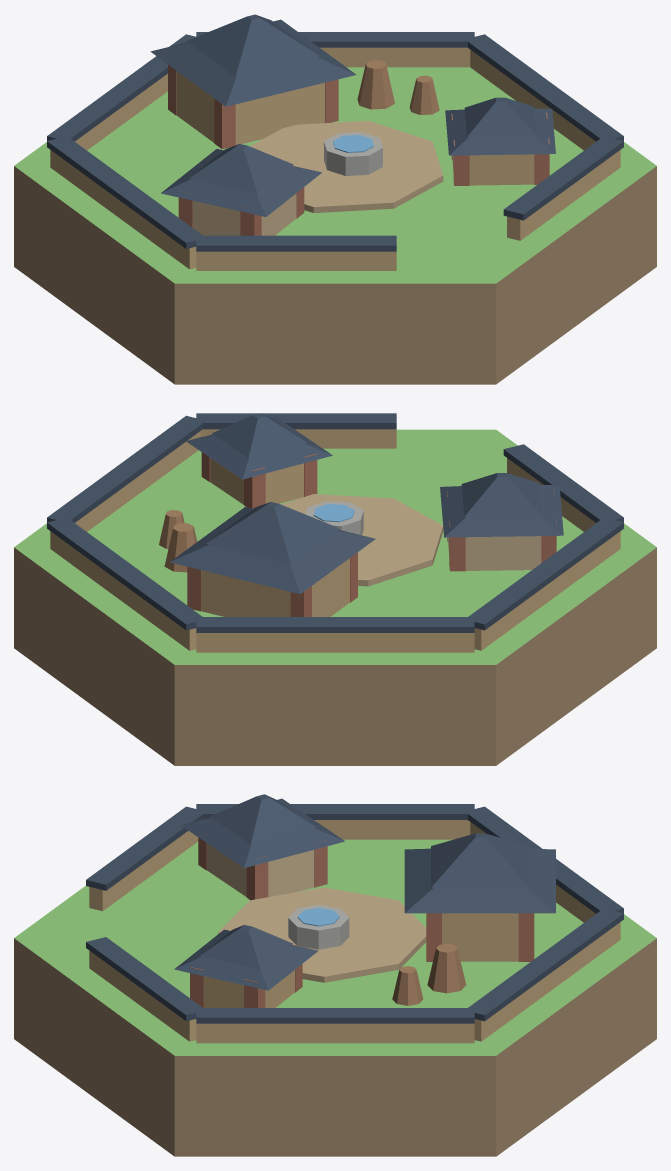
The model's file is village-1.glb.
3 renders of one model, top to bottom at view 1: azimuth 30°, elevation 25°; view 2: azimuth 150°, elevation 25°; view 3: azimuth 270°, elevation 25°, orthographic.
Visible parts, largest first — view 1: base, yard, house_a_eave, house_a_body, house_a_roof, fence_3_wall, fence_2_cap, house_b_eave, fence_5_cap, fence_3_cap, house_c_eave, house_b_roof (+17 smaller); view 2: base, yard, house_a_eave, fence_1_wall, house_a_body, house_a_roof, fence_1_cap, house_b_eave, fence_0_cap, fence_2_cap, fence_5_cap, house_b_roof (+19 smaller); view 3: base, yard, house_a_eave, fence_5_wall, house_a_roof, fence_5_cap, fence_0_cap, house_b_eave, house_a_body, fence_2_cap, house_c_eave, house_b_roof (+19 smaller).
Part boxes in pixels (bbox=[...]): base: bbox=[14, 67, 656, 384]; yard: bbox=[250, 120, 443, 212]; house_a_eave: bbox=[150, 19, 356, 106]; house_a_body: bbox=[176, 71, 324, 144]; house_a_roof: bbox=[186, 14, 319, 76]; fence_3_wall: bbox=[196, 251, 396, 270]; fence_2_cap: bbox=[47, 136, 204, 248]; house_b_eave: bbox=[161, 149, 321, 216]; fence_5_cap: bbox=[468, 34, 623, 141]; fence_3_cap: bbox=[196, 235, 396, 251]; house_c_eave: bbox=[445, 108, 555, 155]; house_b_roof: bbox=[189, 144, 293, 193]; base: bbox=[14, 429, 656, 765]; yard: bbox=[281, 494, 443, 586]; house_a_eave: bbox=[170, 507, 375, 594]; fence_1_wall: bbox=[196, 633, 474, 652]; house_a_body: bbox=[201, 558, 349, 616]; house_a_roof: bbox=[206, 502, 339, 564]; fence_1_cap: bbox=[196, 617, 474, 632]; house_b_eave: bbox=[440, 485, 563, 537]; fence_0_cap: bbox=[47, 517, 205, 630]; fence_2_cap: bbox=[466, 517, 623, 630]; fence_5_cap: bbox=[47, 415, 202, 522]; house_b_roof: bbox=[461, 473, 541, 516]; base: bbox=[14, 839, 656, 1156]; yard: bbox=[218, 887, 426, 982]; house_a_eave: bbox=[404, 848, 555, 913]; fence_5_wall: bbox=[196, 1023, 474, 1043]; house_a_roof: bbox=[431, 833, 529, 887]; fence_5_cap: bbox=[196, 1008, 474, 1023]; fence_0_cap: bbox=[465, 908, 623, 1021]; house_b_eave: bbox=[181, 798, 344, 867]; house_a_body: bbox=[442, 913, 518, 961]; fence_2_cap: bbox=[196, 804, 474, 819]; house_c_eave: bbox=[174, 929, 318, 990]; house_b_roof: bbox=[210, 794, 316, 844].
Bounding box in the file's own units: 1 × 0.3944 × 1.15.
